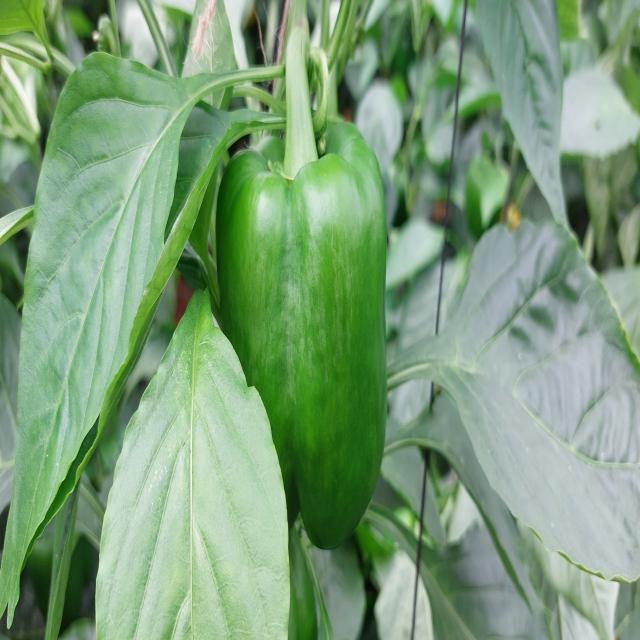Green--Not-ready-to-harvest: (224, 103, 390, 551)
